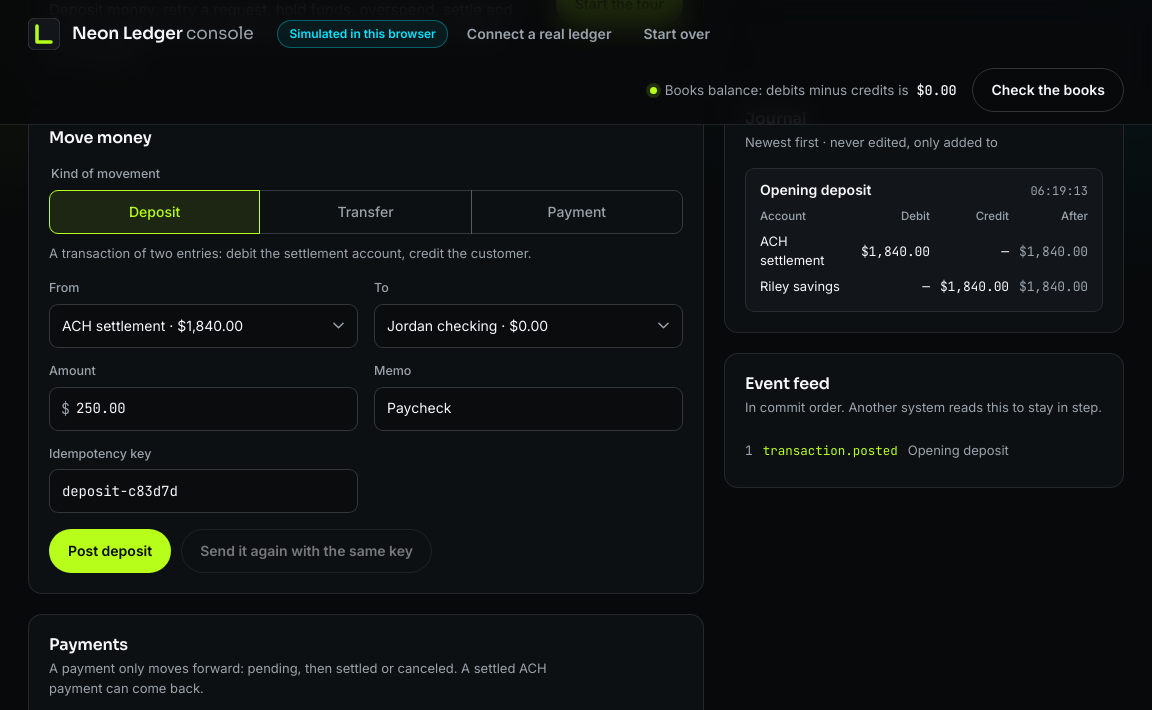
Test case: moving money › does not send an amount it cannot read
This screenshot has width=1152, height=710.
(page scrolled)
Replace the text in the field labelled "Amount" with "12.345" at (204, 409), box [49, 387, 358, 431]
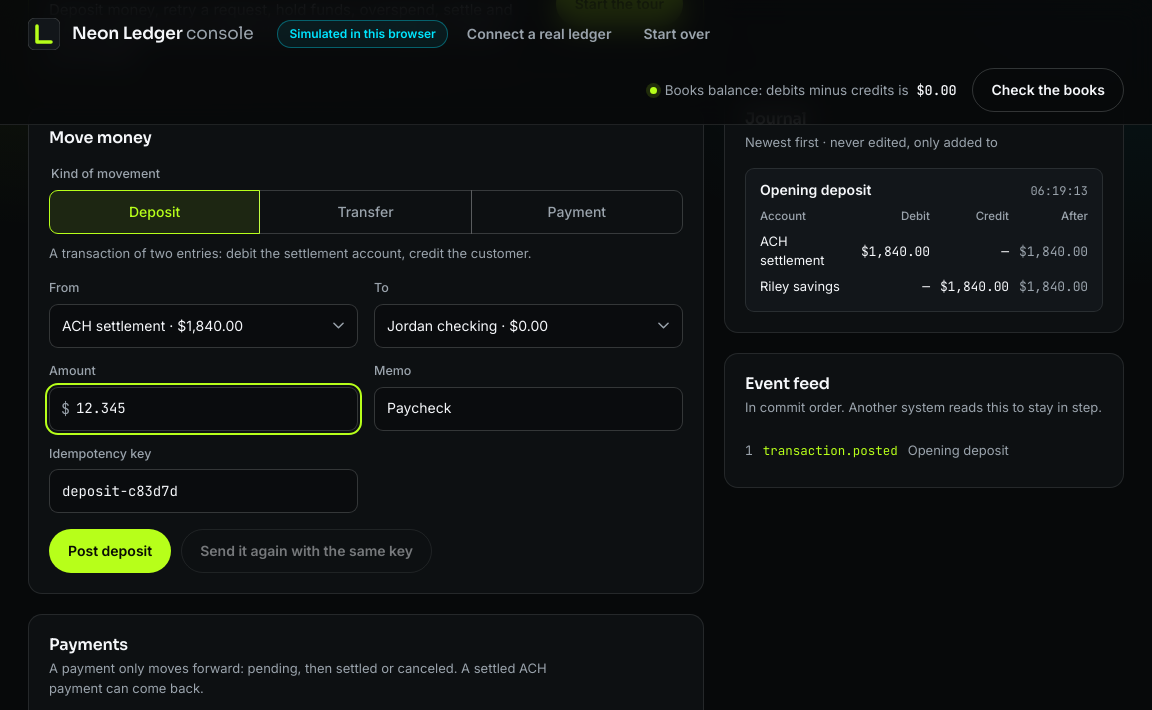
Click the button "Post deposit" at (110, 551), box [49, 529, 171, 573]
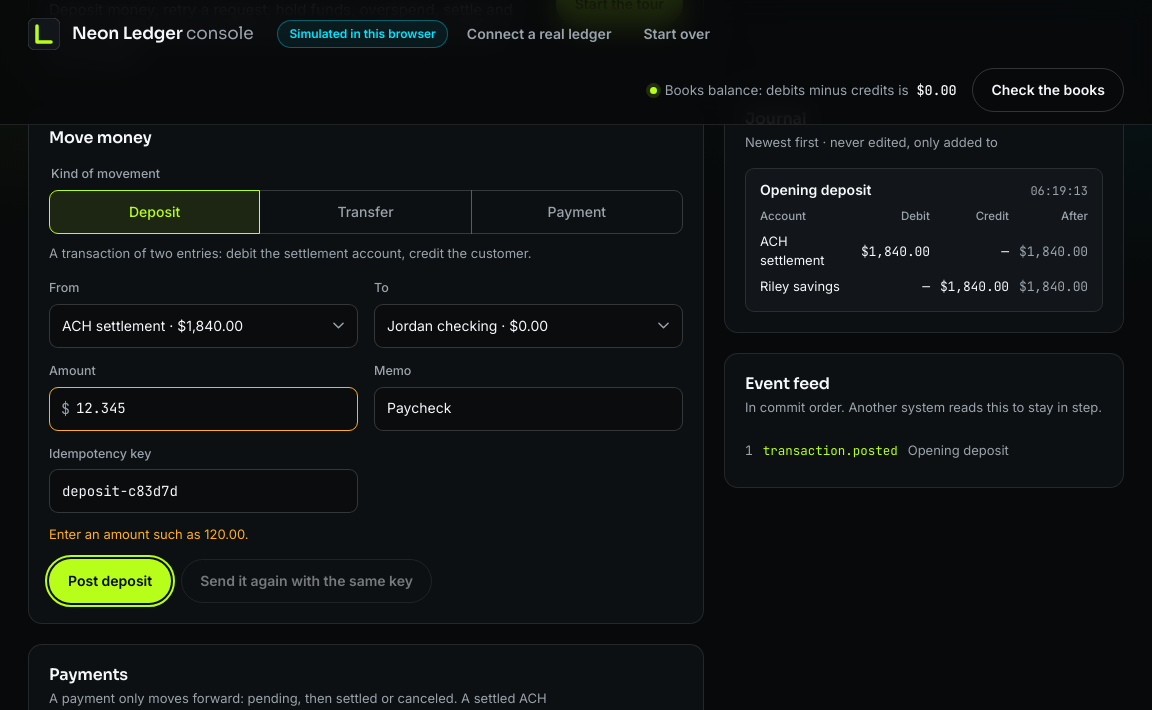
Now the message reads "Enter an amount such as 120.00.", box [49, 526, 249, 542]
